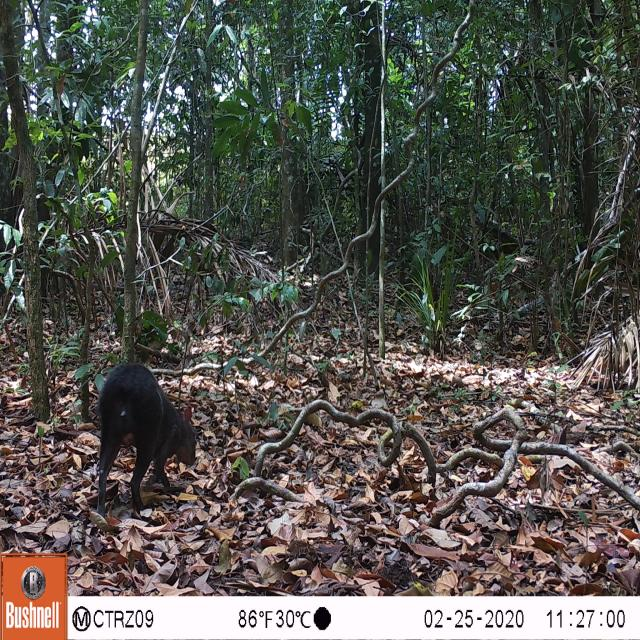Black Agouti: (64, 340, 212, 526)
